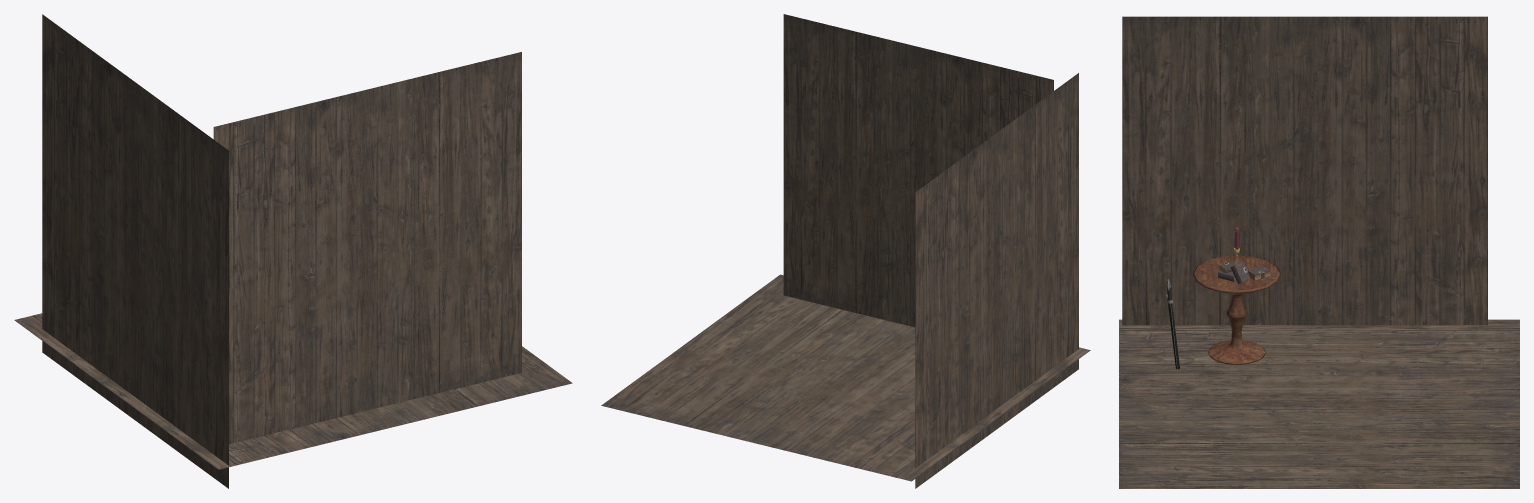
The model's file is presentationScene.fbx.
3 views of the same model, side by side, from view 1: azimuth 30°, elevation 25°; view 2: azimuth 150°, elevation 25°; view 3: azimuth 270°, elevation 25° (orthographic). The views are drawn at different scales.
Parts seen in each view (by area): view 1: pasted__pPlane1, pasted__pasted__pPlane1, ground; view 2: pasted__pPlane1, pasted__pasted__pPlane1, ground; view 3: pasted__pasted__pPlane1, ground, Stand.
Boxes of the visible parts, <box> form: pasted__pPlane1: <box>213,52,521,444</box>; pasted__pasted__pPlane1: <box>42,14,228,488</box>; ground: <box>14,313,572,469</box>; pasted__pPlane1: <box>783,14,1053,327</box>; pasted__pasted__pPlane1: <box>915,73,1078,488</box>; ground: <box>601,274,1090,481</box>; pasted__pasted__pPlane1: <box>1122,16,1487,325</box>; ground: <box>1119,319,1519,488</box>; Stand: <box>1192,255,1281,364</box>.
Bounding box in the file's own units: 35.84 × 33.28 × 35.84.
